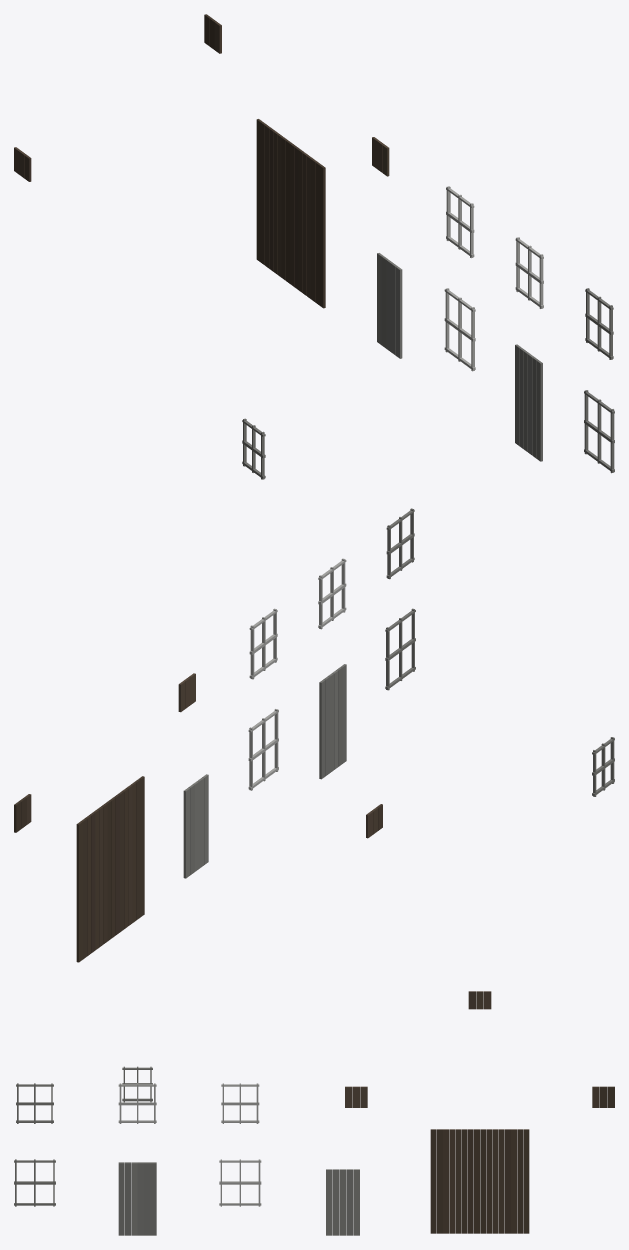
File: SM_Bld_027_Wood.glb
3 views of the same model, one above another, from view 1: azimuth 30°, elevation 25°; view 2: azimuth 150°, elevation 25°; view 3: azimuth 270°, elevation 25° (orthographic). The views are drawn at different scales.
Visible parts, largest first — view 1: SM_Bld_027_Wood; view 2: SM_Bld_027_Wood; view 3: SM_Bld_027_Wood.
Part boxes in pixels (x1,y1,x2,y2): SM_Bld_027_Wood: [14, 14, 614, 479]; SM_Bld_027_Wood: [14, 508, 614, 962]; SM_Bld_027_Wood: [14, 991, 614, 1235].
Size of the model in its own units: 6.24 by 4.4 by 15.8.
